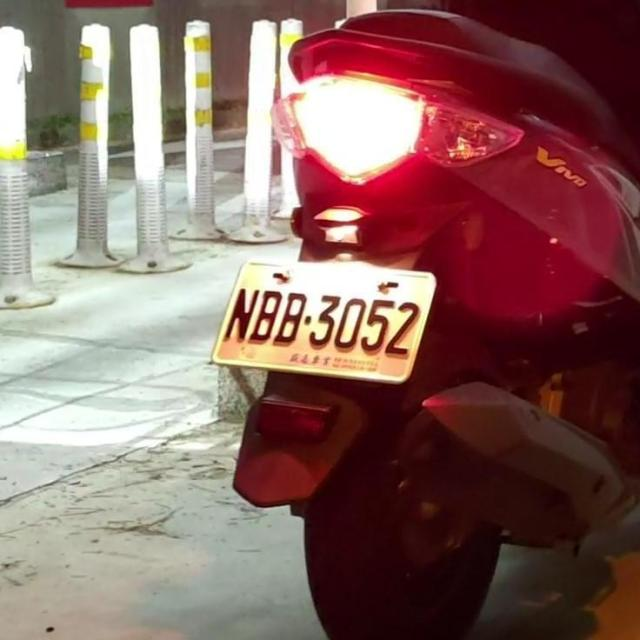W: (211, 244, 439, 388)
